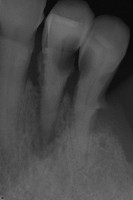Furcation Involvement: (29, 98, 67, 160)
